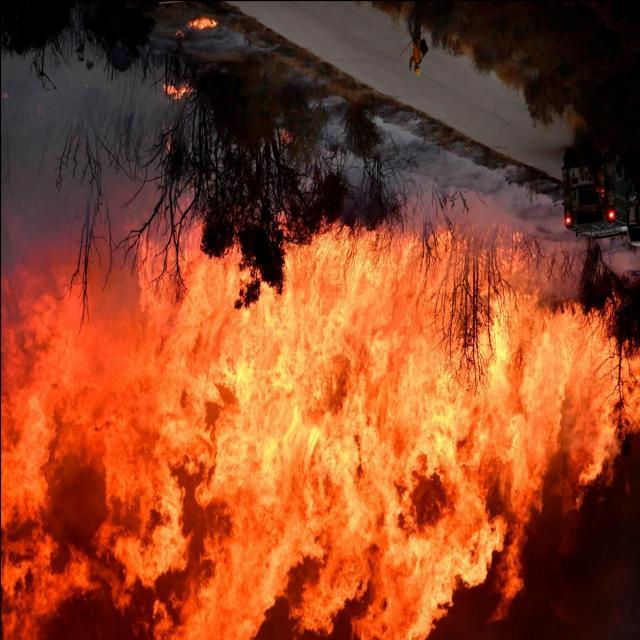Fire: (0, 216, 632, 632)
